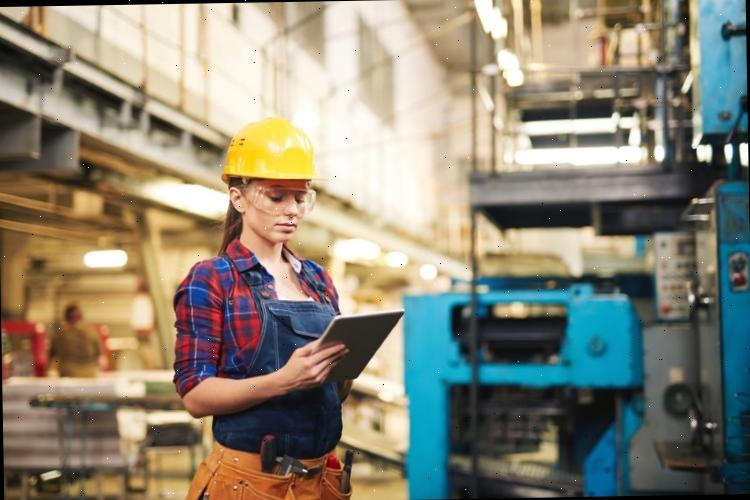helmet: (216, 116, 329, 188), (38, 468, 63, 479)
no_wear: (197, 257, 342, 447)
